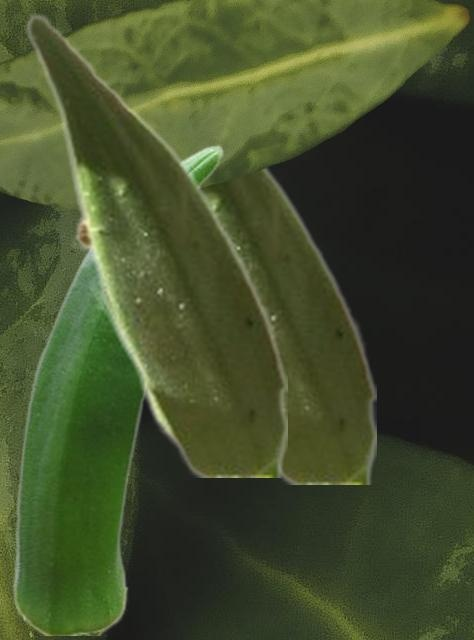okra: (24, 11, 286, 476), (11, 144, 223, 634), (204, 167, 375, 483)
